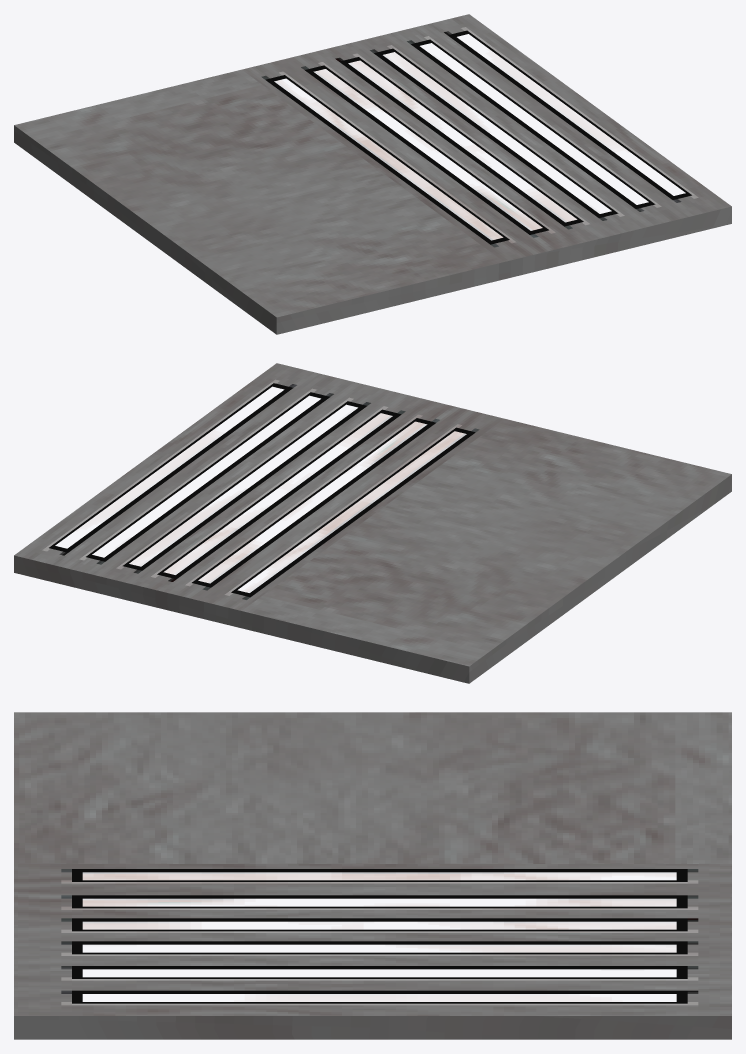
File: floor02.gltf
The picture shows the model from 3 angles, top to bottom: view 1: azimuth 30°, elevation 25°; view 2: azimuth 150°, elevation 25°; view 3: azimuth 270°, elevation 25°; orthographic projection. The views are drawn at different scales.
Visible parts, largest first — view 1: Cube; view 2: Cube; view 3: Cube.
Boxes of the visible parts, x1,y1,x2,y2 form: Cube: (14,14,731,334); Cube: (14,363,731,683); Cube: (14,712,731,1039).
Bounding box in the file's own units: 2 × 0.0728 × 2.
Materials: 1 (1 with a texture image).
